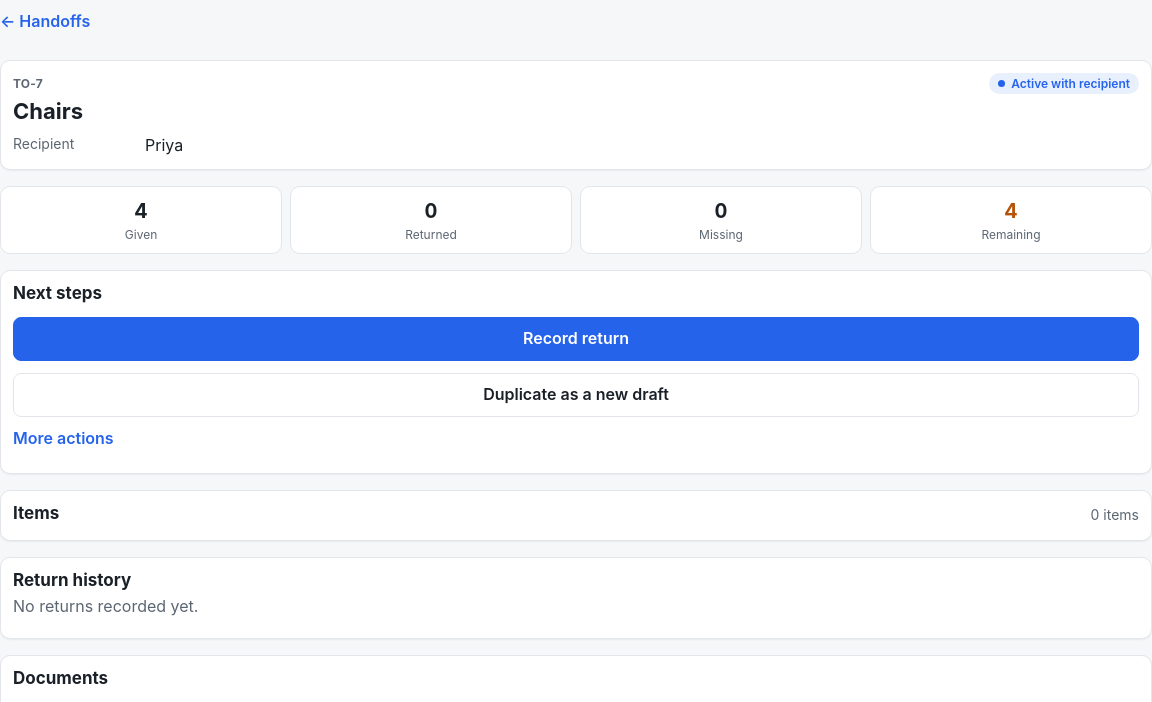
cancelling and disputing a handoff need a reason › can still be backed out of without a reason
expect the heading "Chairs" is shown: met, box [13, 98, 83, 124]
Click the heading "More actions" at (63, 438), box [13, 428, 114, 448]
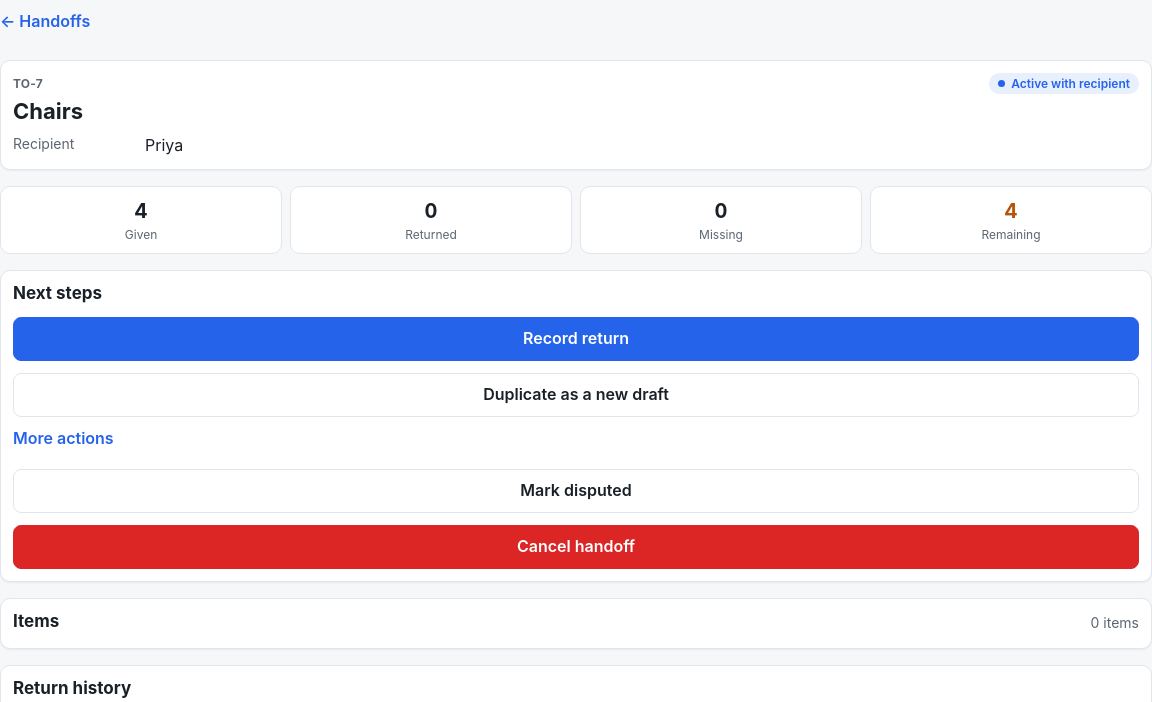
Click the button "Cancel handoff" at (576, 547), box [13, 525, 1139, 569]
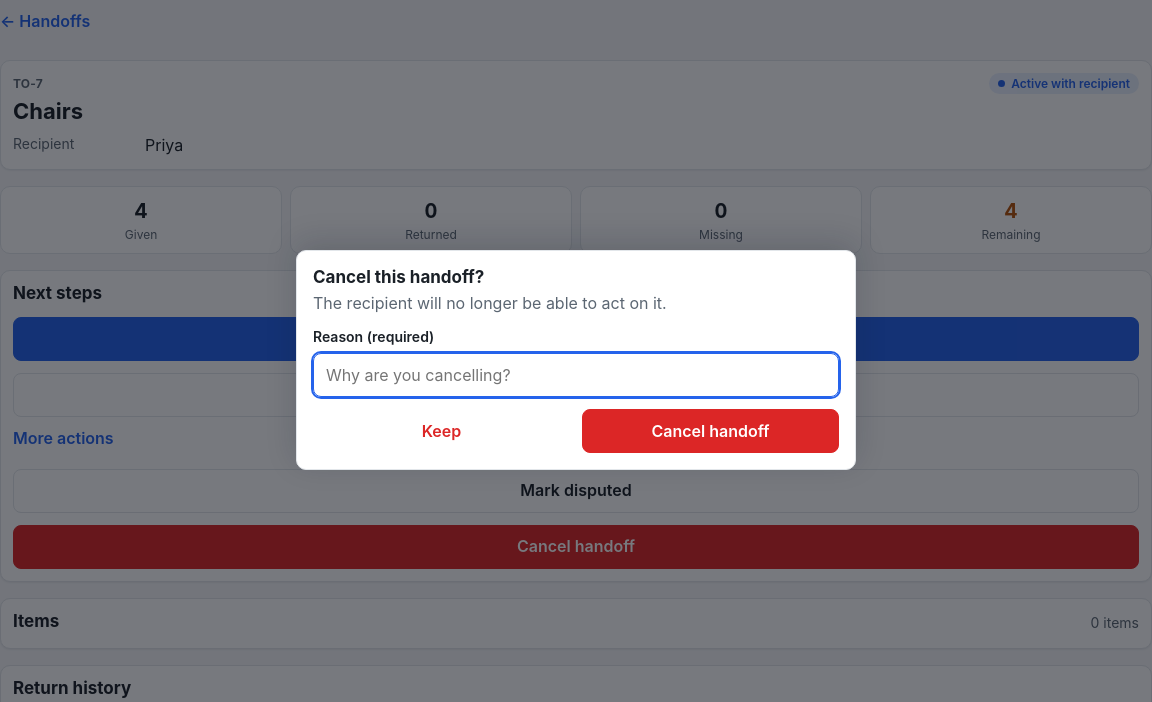
expect the dialog is shown: met, box [296, 250, 856, 470]
Click the button "Keep" at (442, 431), box [313, 409, 570, 453]
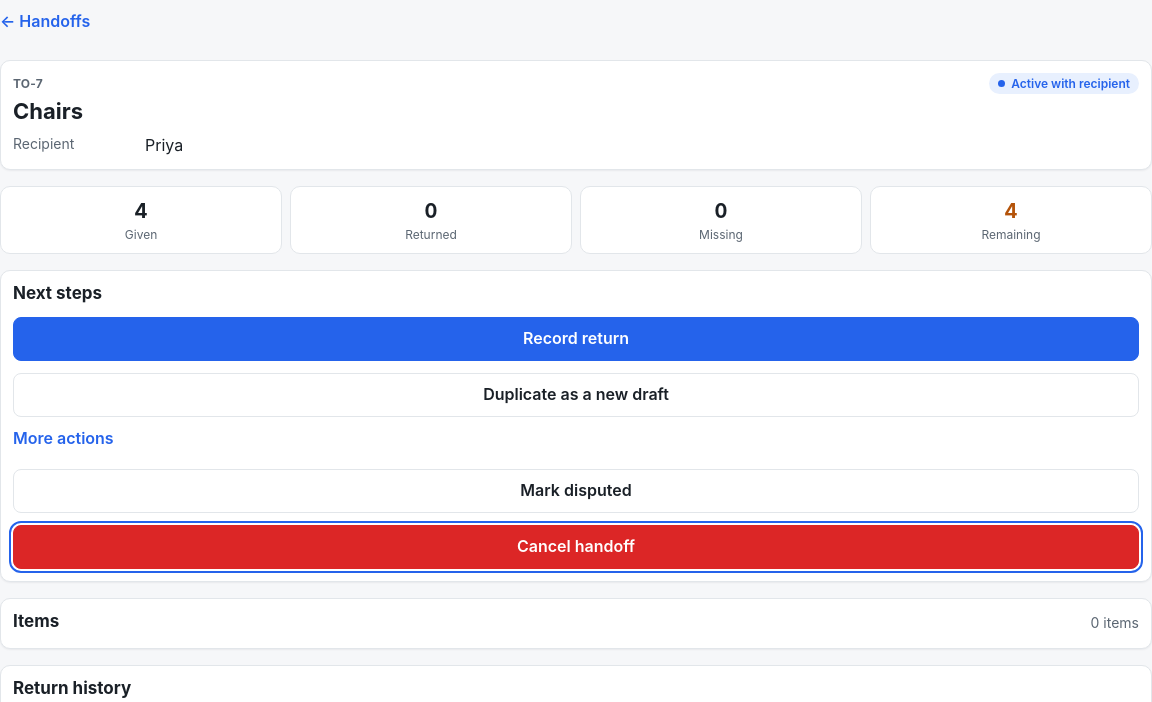
expect the dialog is gone: met
